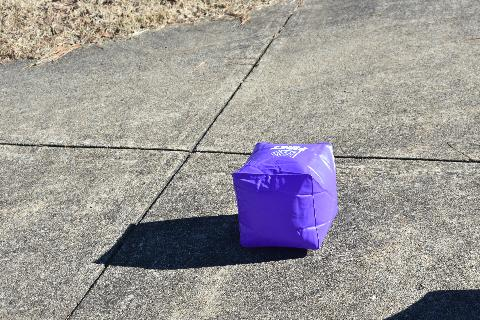cube: (232, 142, 338, 250)
